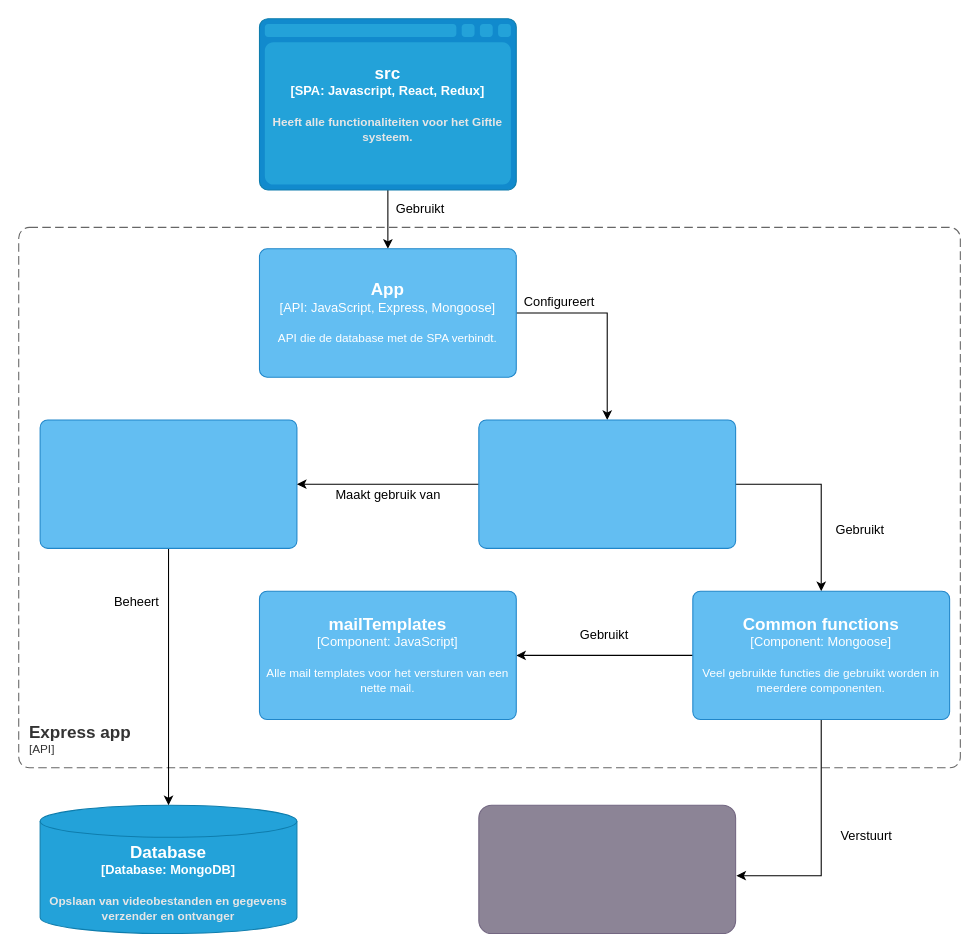
Image size: 979x952. Some labels were removed from this diagram. The shapes that lost their labels are listed below. From the top down, each one's centre as x and y in pixels, then its label:
At point (168, 483): "Model [Component: Mongoose]".
At point (607, 483): "Routes [Component: JavaScript, Express, Mongoose]".
At point (607, 869): "Google SMTP [Software System] SMTP service voor het mailen".
